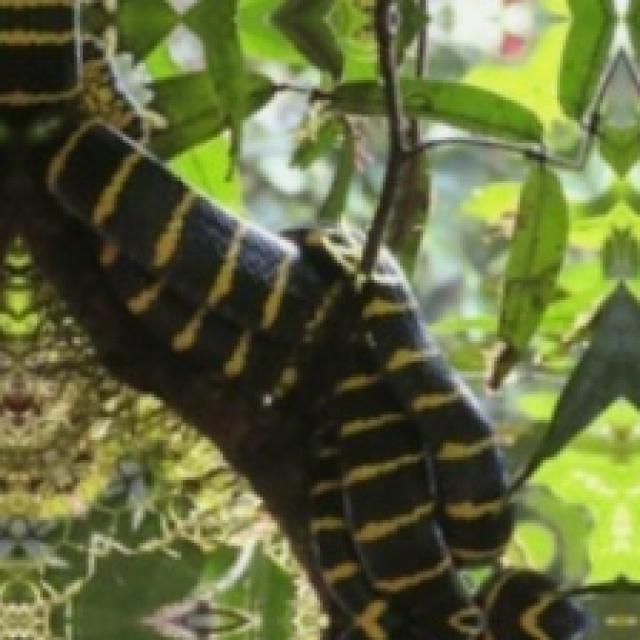mangrove cat snake: (0, 0, 585, 639)
